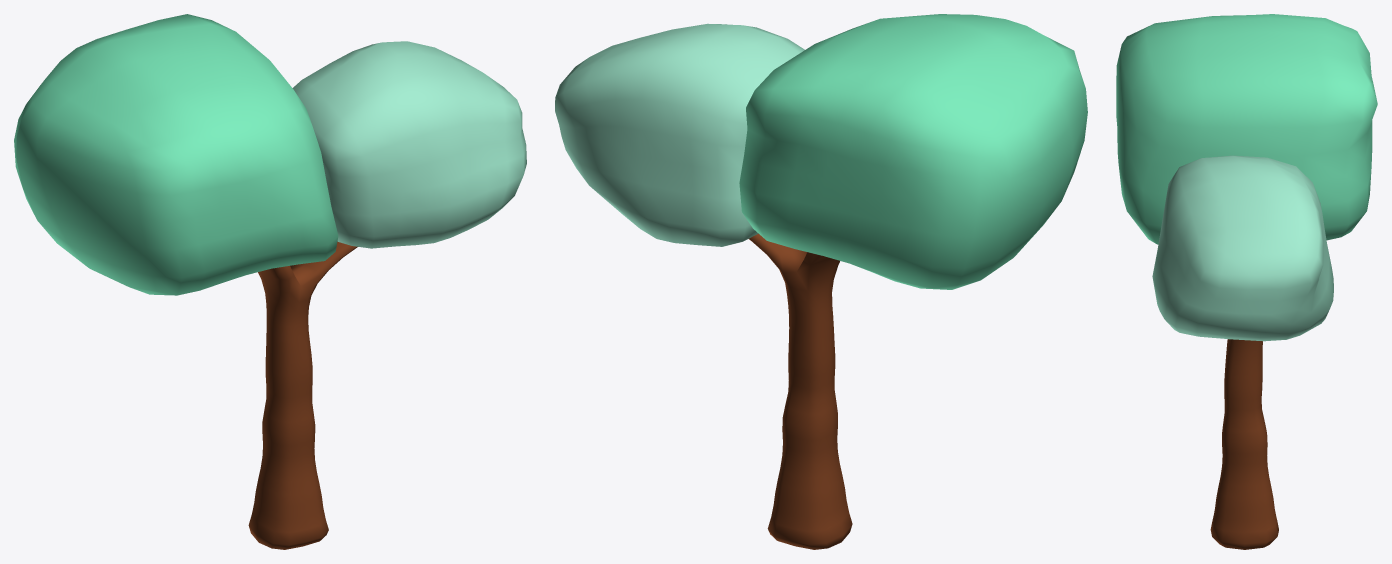
3 views of the same model, side by side, from view 1: azimuth 30°, elevation 25°; view 2: azimuth 150°, elevation 25°; view 3: azimuth 270°, elevation 25° (orthographic). The views are drawn at different scales.
Visible parts, largest first — view 1: BUSH TWO, BUSH ONE, Tree; view 2: BUSH TWO, BUSH ONE, Tree; view 3: BUSH TWO, BUSH ONE, Tree.
Part boxes in pixels (x1,y1,x2,y2): BUSH TWO: (14,14,338,295); BUSH ONE: (292,41,526,248); Tree: (248,241,357,549); BUSH TWO: (739,14,1087,289); BUSH ONE: (555,23,804,246); Tree: (749,233,852,549); BUSH TWO: (1116,14,1377,244); BUSH ONE: (1152,155,1333,341); Tree: (1210,339,1278,549).
Bounding box in the file's own units: 1149 × 2229 × 2120.
